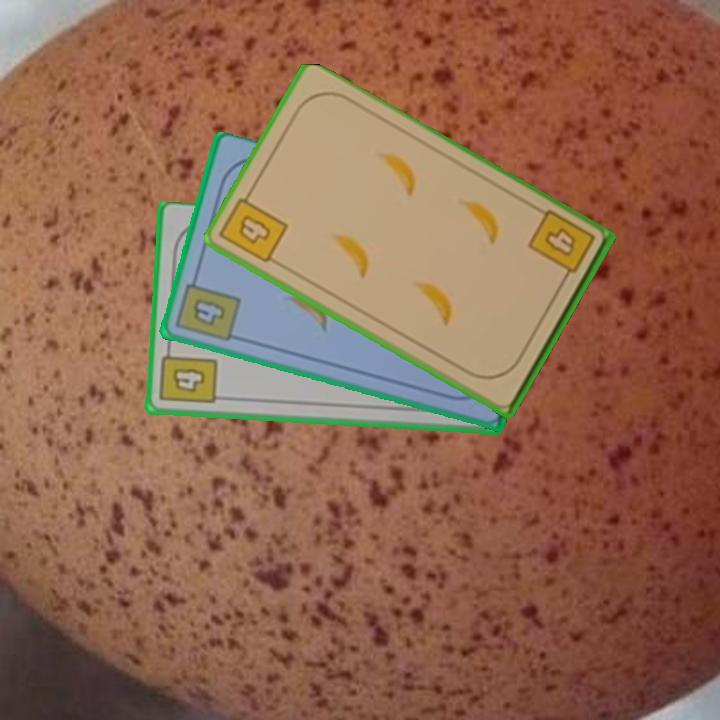4b: (217, 186, 291, 267), (524, 207, 598, 288), (172, 270, 243, 345), (157, 342, 220, 407)
